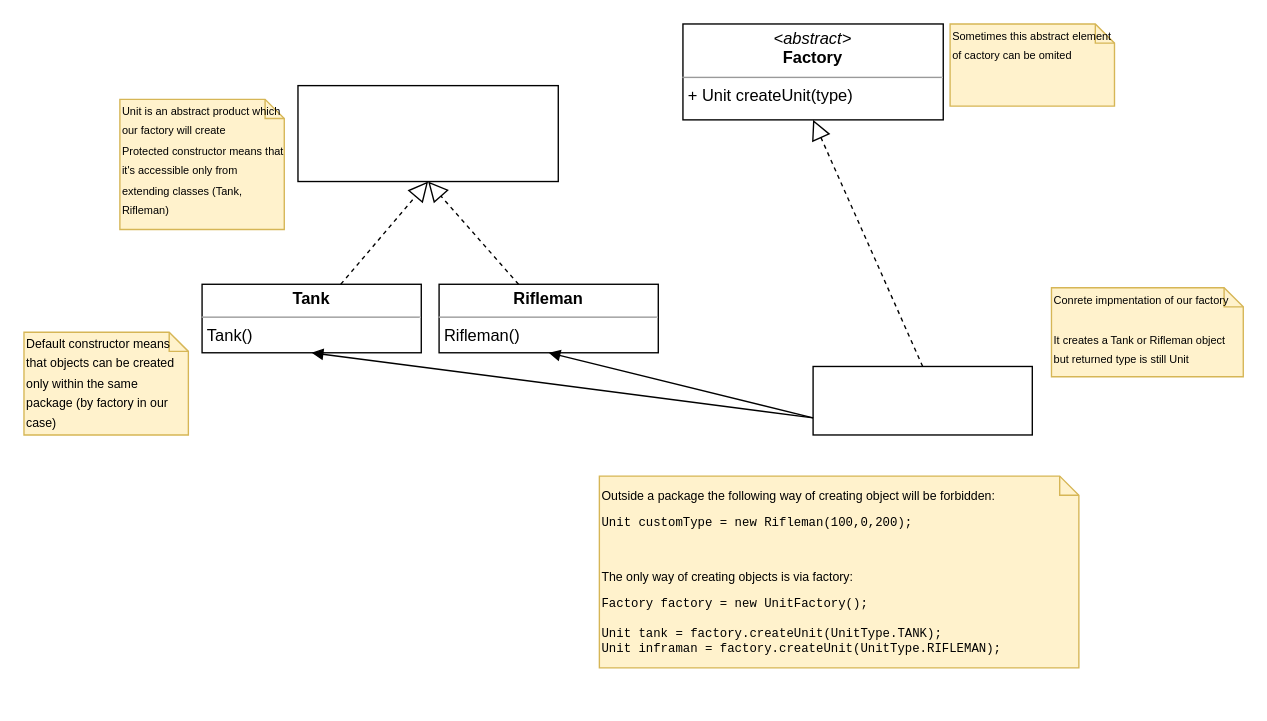
The diagram is 1267 pixels wide and 721 high, and some of its shapes have lost their labels. The shapes that lost their labels are listed below. From the top down, each one's centre as x and y in pixels, then its label:
At (427,133): "<abstract> Unit protected Unit()".
At (922,400): "UnitFactory + Unit createUnit(type)".
